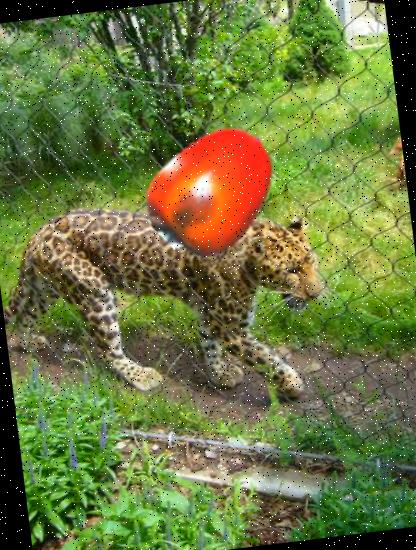Kaki: (136, 114, 292, 270)
